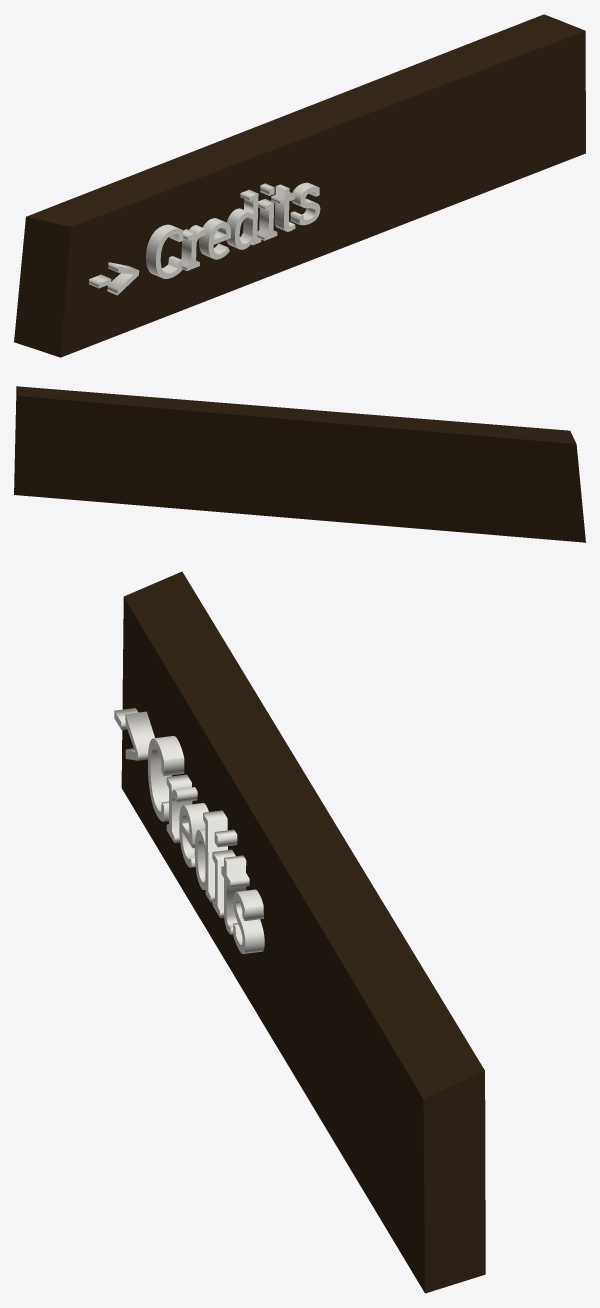
Rendered from thirdchoice.glb.
The picture shows the model from 3 angles, top to bottom: view 1: azimuth 30°, elevation 25°; view 2: azimuth 150°, elevation 25°; view 3: azimuth 270°, elevation 25°; orthographic projection. The views are drawn at different scales.
Visible parts, largest first — view 1: Cube_Material.005_0.007, secondchoice.001; view 2: Cube_Material.005_0.007; view 3: Cube_Material.005_0.007, secondchoice.001.
Boxes of the visible parts, left/top/right/bottom form: Cube_Material.005_0.007: left=14, top=14, right=585, bottom=357; secondchoice.001: left=89, top=182, right=320, bottom=295; Cube_Material.005_0.007: left=14, top=386, right=585, bottom=542; Cube_Material.005_0.007: left=121, top=571, right=485, bottom=1293; secondchoice.001: left=114, top=708, right=264, bottom=953.
Bounding box in the file's own units: 0.6851 × 0.15 × 0.2161.
